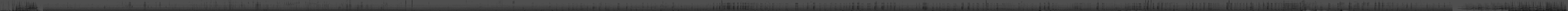Moan: (922, 0, 927, 11), (592, 0, 596, 11), (732, 0, 735, 11), (742, 0, 745, 11), (856, 0, 859, 11), (874, 0, 877, 11), (881, 0, 884, 11), (961, 0, 964, 11), (967, 0, 970, 11), (1047, 0, 1050, 11), (1146, 0, 1149, 11), (745, 0, 747, 11), (813, 0, 815, 11), (1157, 0, 1159, 11), (1226, 0, 1228, 11), (1348, 0, 1350, 11), (1374, 0, 1376, 11)
